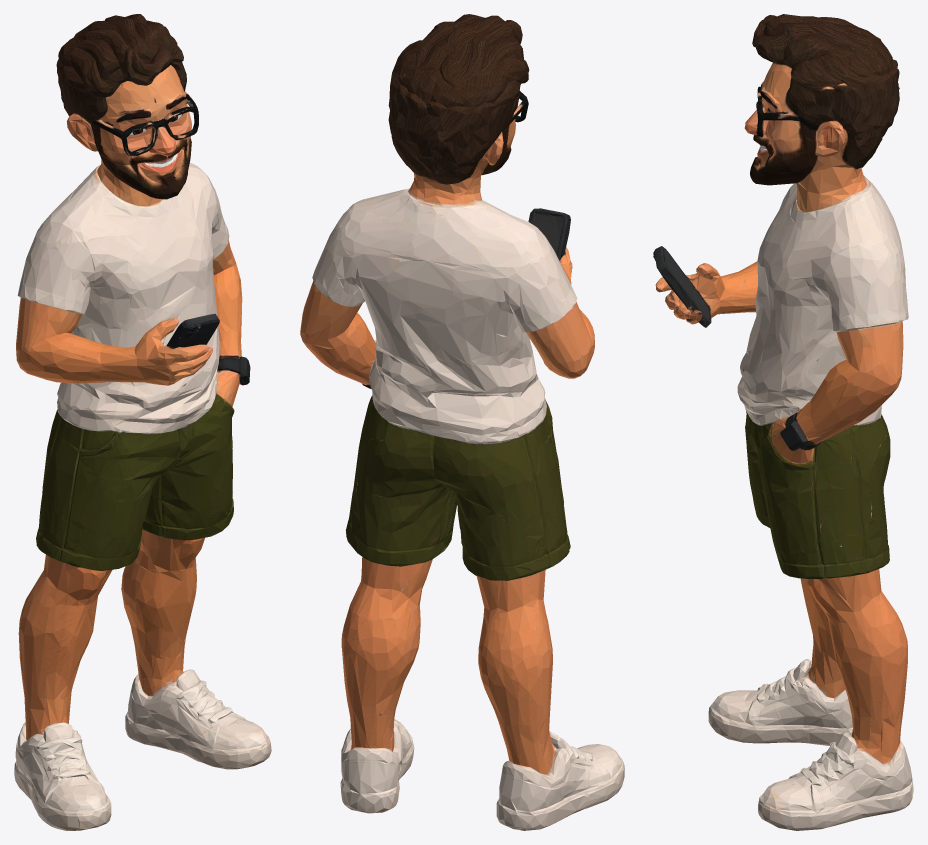
The model's file is celular.glb.
The picture shows the model from 3 angles, left to right: view 1: azimuth 30°, elevation 25°; view 2: azimuth 150°, elevation 25°; view 3: azimuth 270°, elevation 25°; orthographic projection.
Size of the model in its own units: 0.6511 by 1.9 by 0.5958.
1 material, 1 textured.
